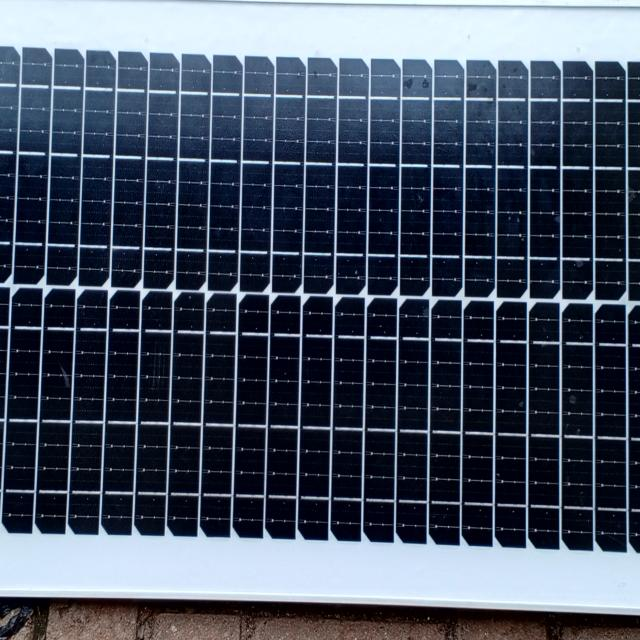Clean: (1, 20, 640, 574)
